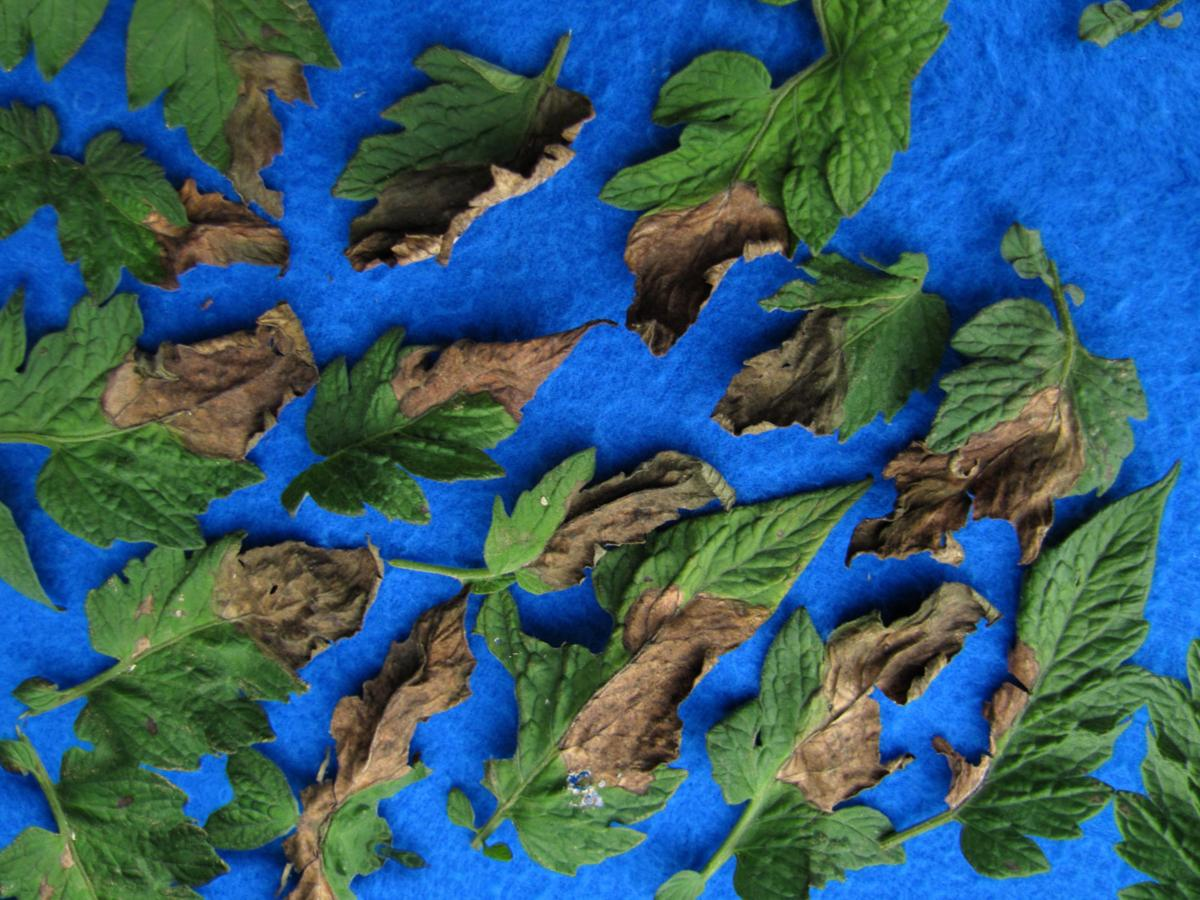Tomato leaf late blight: (471, 414, 849, 900), (832, 208, 1191, 642), (561, 0, 939, 410), (898, 441, 1200, 900), (654, 516, 1002, 900), (16, 460, 392, 815), (302, 0, 622, 341), (263, 266, 580, 578), (674, 209, 997, 508), (425, 377, 750, 660), (84, 0, 368, 224), (33, 131, 313, 337)
